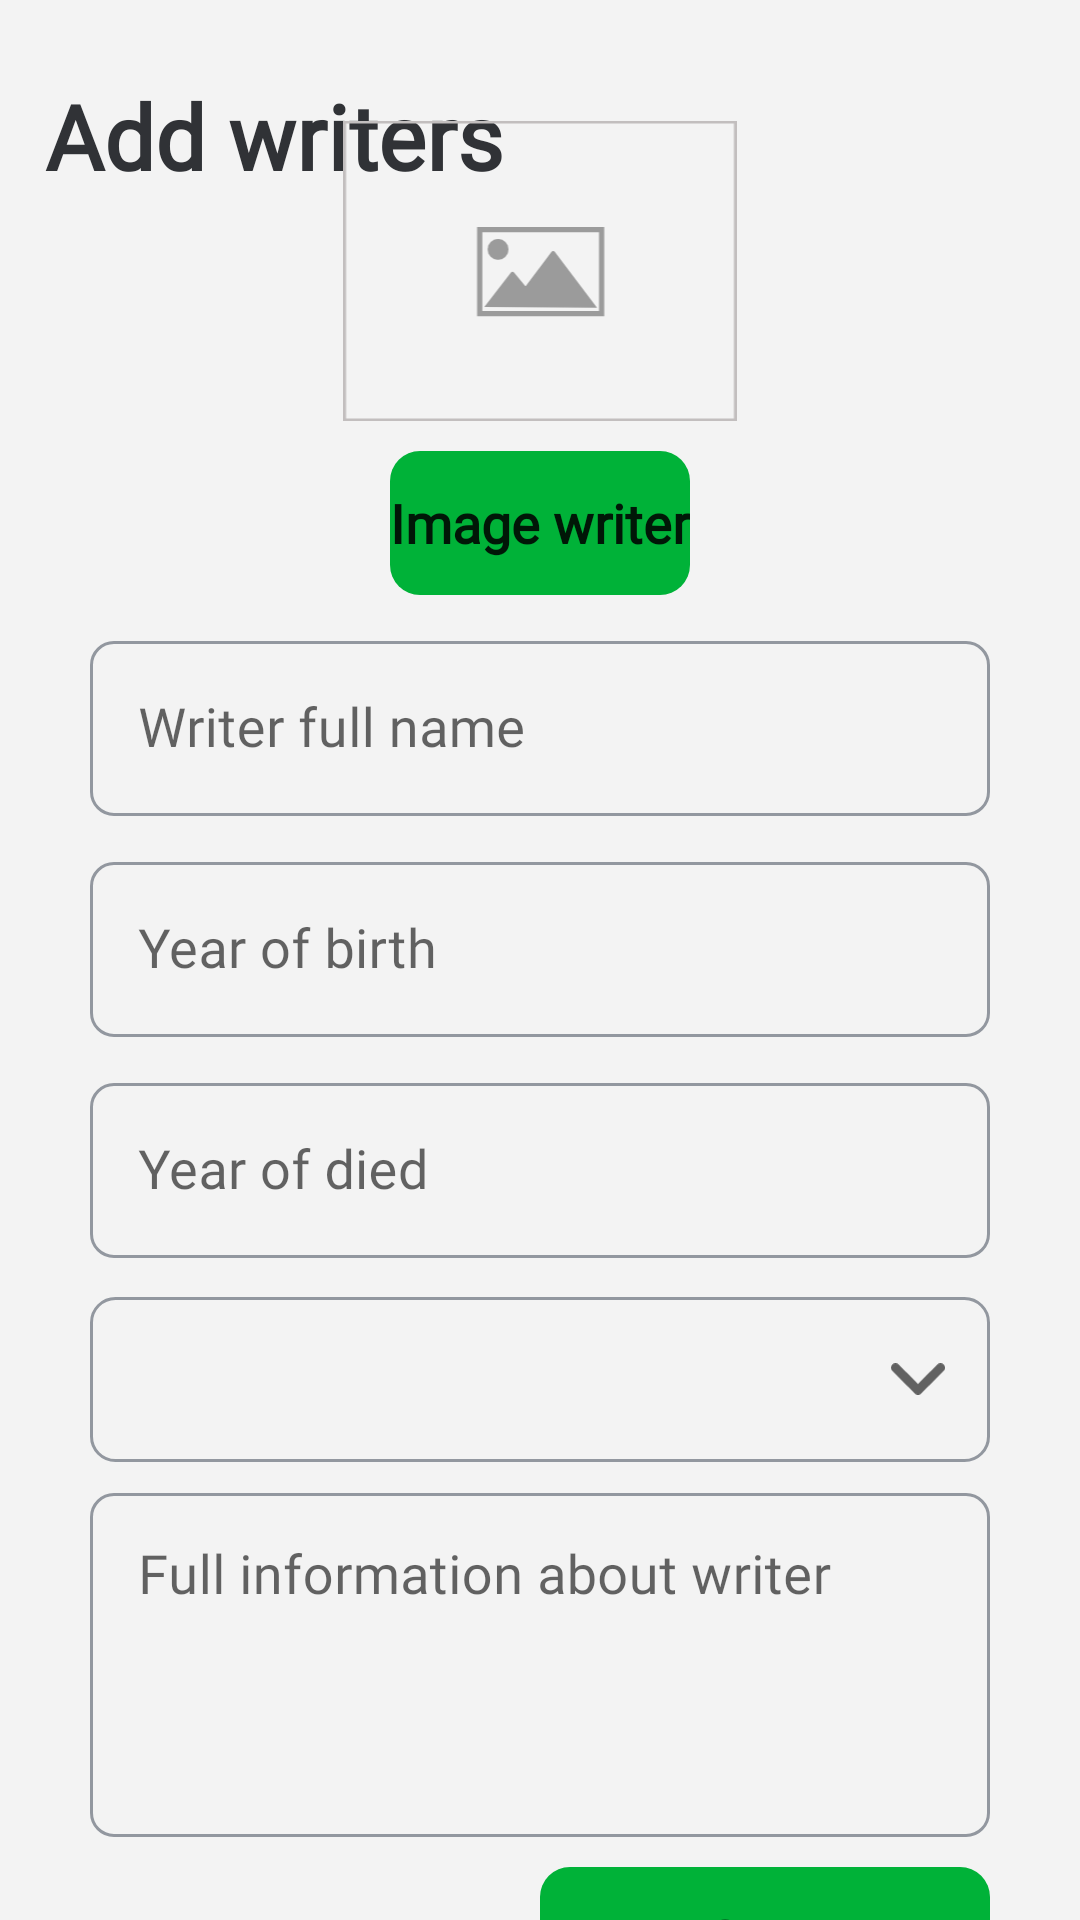

Named icons in this screenshot (1080x1920) and their centers, (x=x, y=y):
down arrow: (x=918, y=1379)
